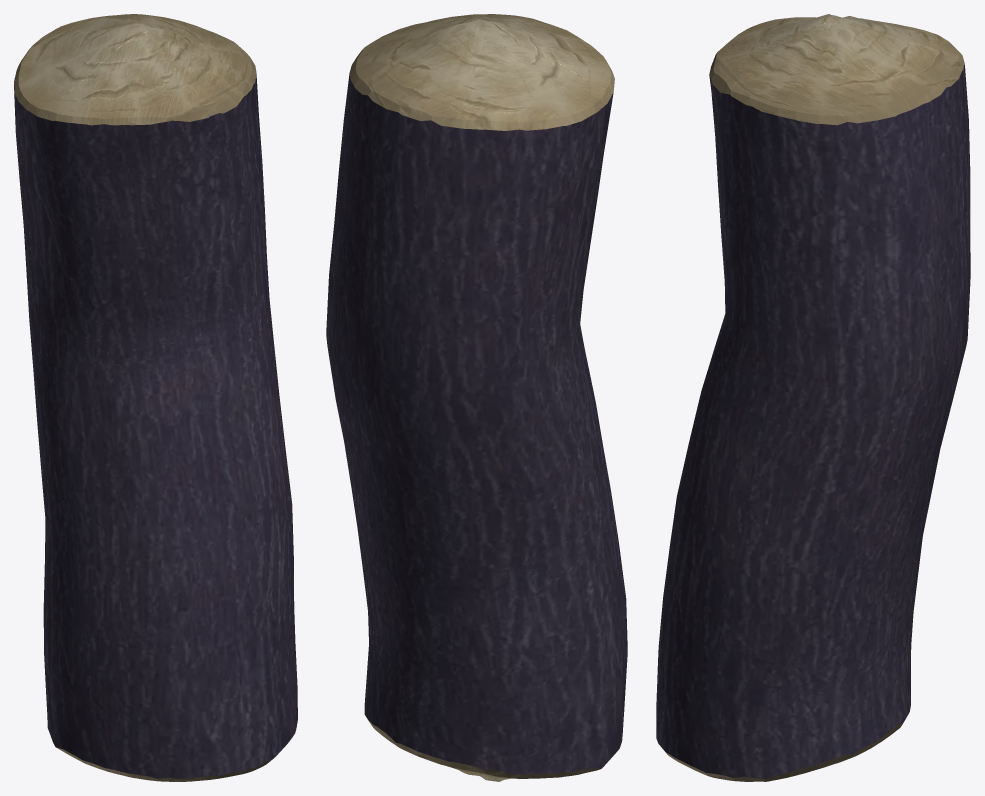
The picture shows the model from 3 angles, left to right: view 1: azimuth 30°, elevation 25°; view 2: azimuth 150°, elevation 25°; view 3: azimuth 270°, elevation 25°; orthographic projection. The views are drawn at different scales.
Parts seen in each view (by area): view 1: SM_FH_Oak_Tree_02_quarter_02_LOD0; view 2: SM_FH_Oak_Tree_02_quarter_02_LOD0; view 3: SM_FH_Oak_Tree_02_quarter_02_LOD0.
Part boxes in pixels (x1,y1,x2,y2): SM_FH_Oak_Tree_02_quarter_02_LOD0: [14, 14, 297, 781]; SM_FH_Oak_Tree_02_quarter_02_LOD0: [326, 14, 627, 781]; SM_FH_Oak_Tree_02_quarter_02_LOD0: [656, 14, 970, 781].
Size of the model in its own units: 0.9866 by 2.94 by 1.12.
1 material, 1 textured.
